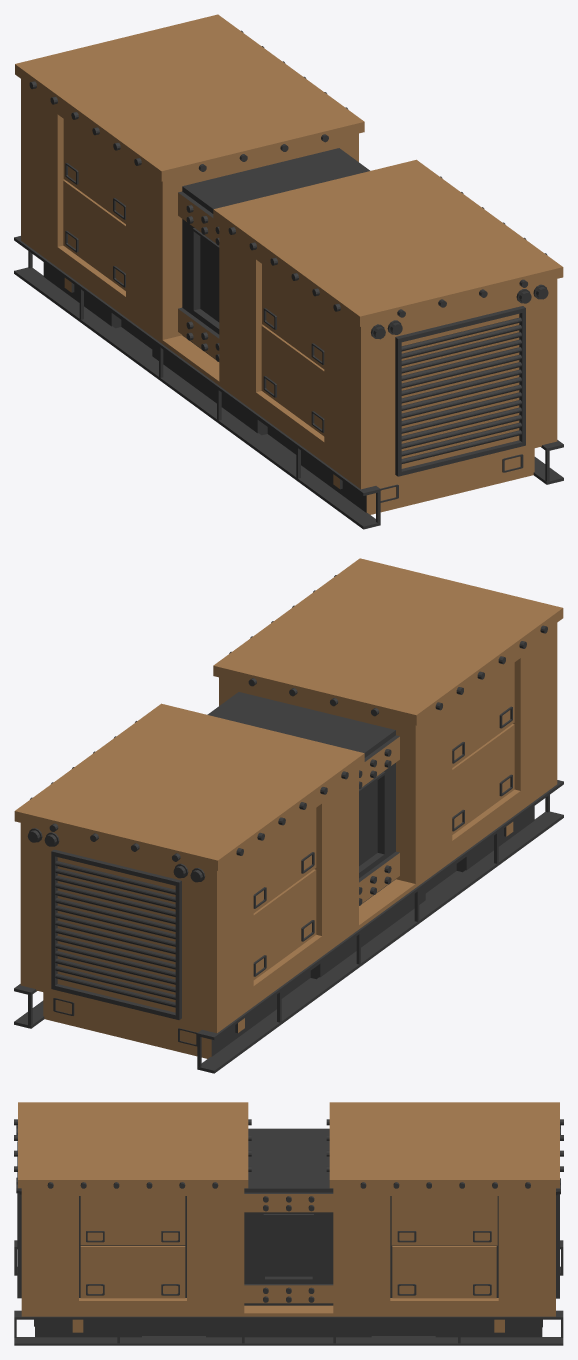
File: Gen.fbx
3 views of the same model, one above another, from view 1: azimuth 30°, elevation 25°; view 2: azimuth 150°, elevation 25°; view 3: azimuth 270°, elevation 25° (orthographic). The views are drawn at different scales.
Parts seen in each view (by area): view 1: Gen; view 2: Gen; view 3: Gen.
Part boxes in pixels (<box>): Gen: <box>14,14,563,529</box>; Gen: <box>14,558,563,1073</box>; Gen: <box>14,1102,563,1345</box>.
Size of the model in its own units: 215 by 206 by 618.
